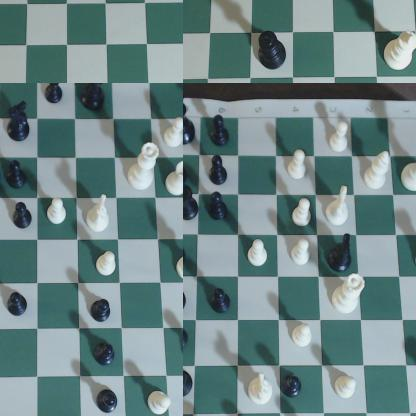black-bishop: (207, 154, 232, 186), (206, 193, 232, 221), (213, 114, 231, 149), (184, 147, 191, 191)
black-king: (253, 27, 290, 77), (184, 88, 199, 147)
black-knight: (328, 232, 356, 273), (45, 84, 65, 105)
black-pawn: (7, 157, 30, 193), (209, 285, 234, 317), (93, 342, 119, 368), (97, 387, 120, 415), (7, 290, 29, 317), (91, 298, 113, 325), (13, 202, 34, 230), (282, 375, 303, 399), (184, 323, 192, 351)
black-queen: (7, 102, 33, 143), (77, 84, 109, 109)
black-rook: (184, 184, 201, 222), (184, 369, 196, 398)
white-bishop: (365, 151, 392, 191), (176, 248, 183, 284)
white-king: (383, 27, 416, 71), (401, 135, 416, 193)
white-knight: (327, 184, 353, 229), (87, 194, 113, 235), (247, 372, 275, 408)
white-pawn: (328, 120, 352, 155), (289, 238, 315, 268), (290, 199, 315, 230), (287, 147, 309, 181), (49, 197, 70, 230), (147, 389, 172, 416), (164, 116, 183, 151), (247, 239, 269, 269), (333, 376, 360, 400), (96, 252, 119, 278), (291, 324, 316, 347)
white-queen: (127, 140, 161, 193), (331, 274, 368, 317)
white-rook: (166, 159, 183, 197)
